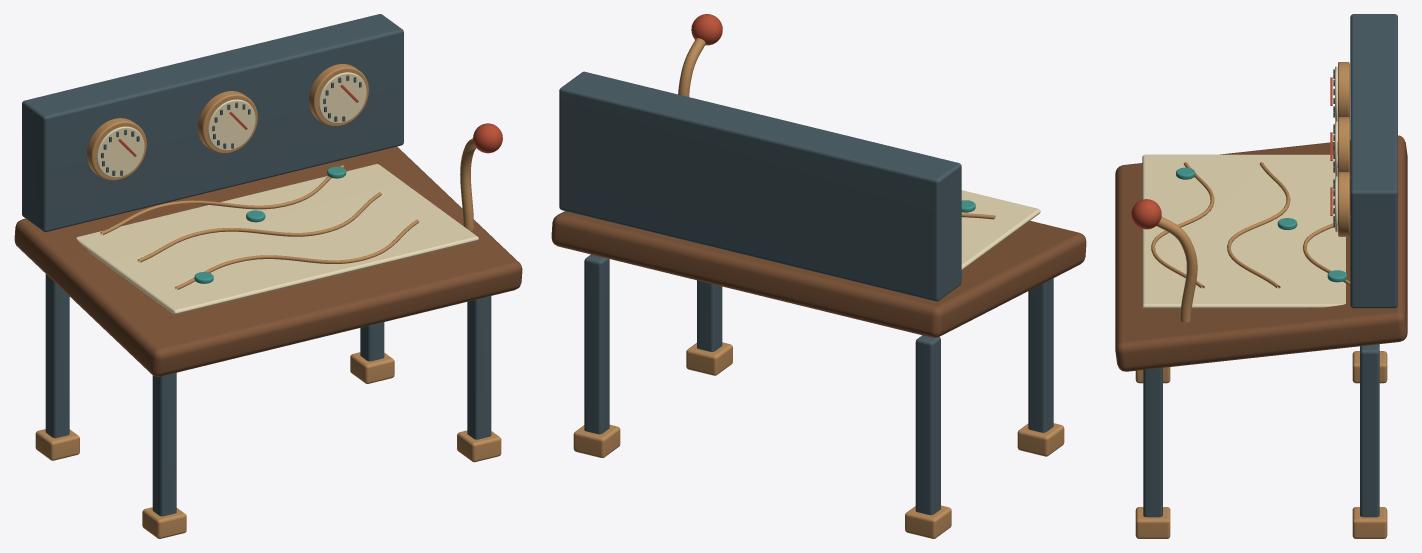
File: Departure.fbx
3 renders of one model, left to right at view 1: azimuth 30°, elevation 25°; view 2: azimuth 150°, elevation 25°; view 3: azimuth 270°, elevation 25°, orthographic. The views are drawn at different scales.
Parts seen in each view (by area): view 1: Departure; view 2: Departure; view 3: Departure.
Part boxes in pixels (x1,y1,x2,y2): Departure: (14,14,522,538); Departure: (551,14,1086,538); Departure: (1115,14,1407,538).
Bounding box in the file's own units: 200 × 135 × 180.
